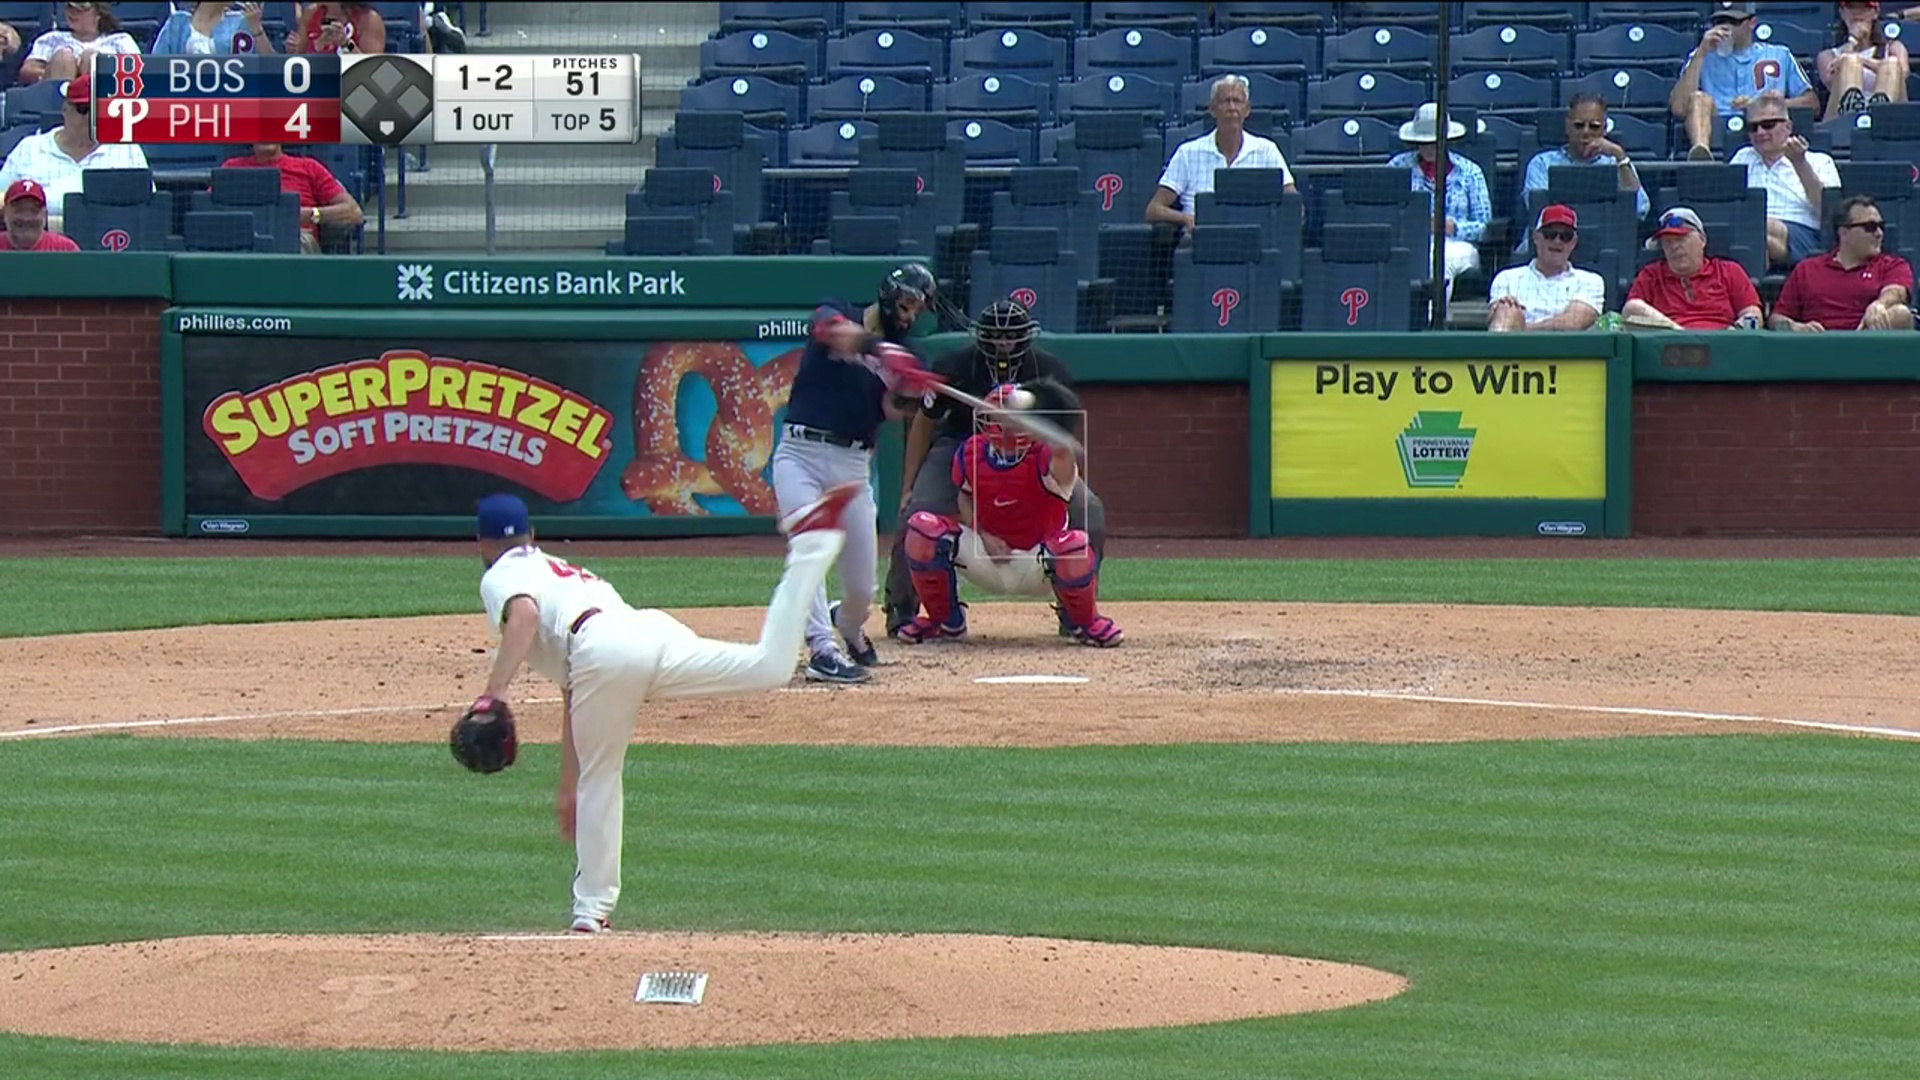baseball: (1007, 388, 1034, 410)
